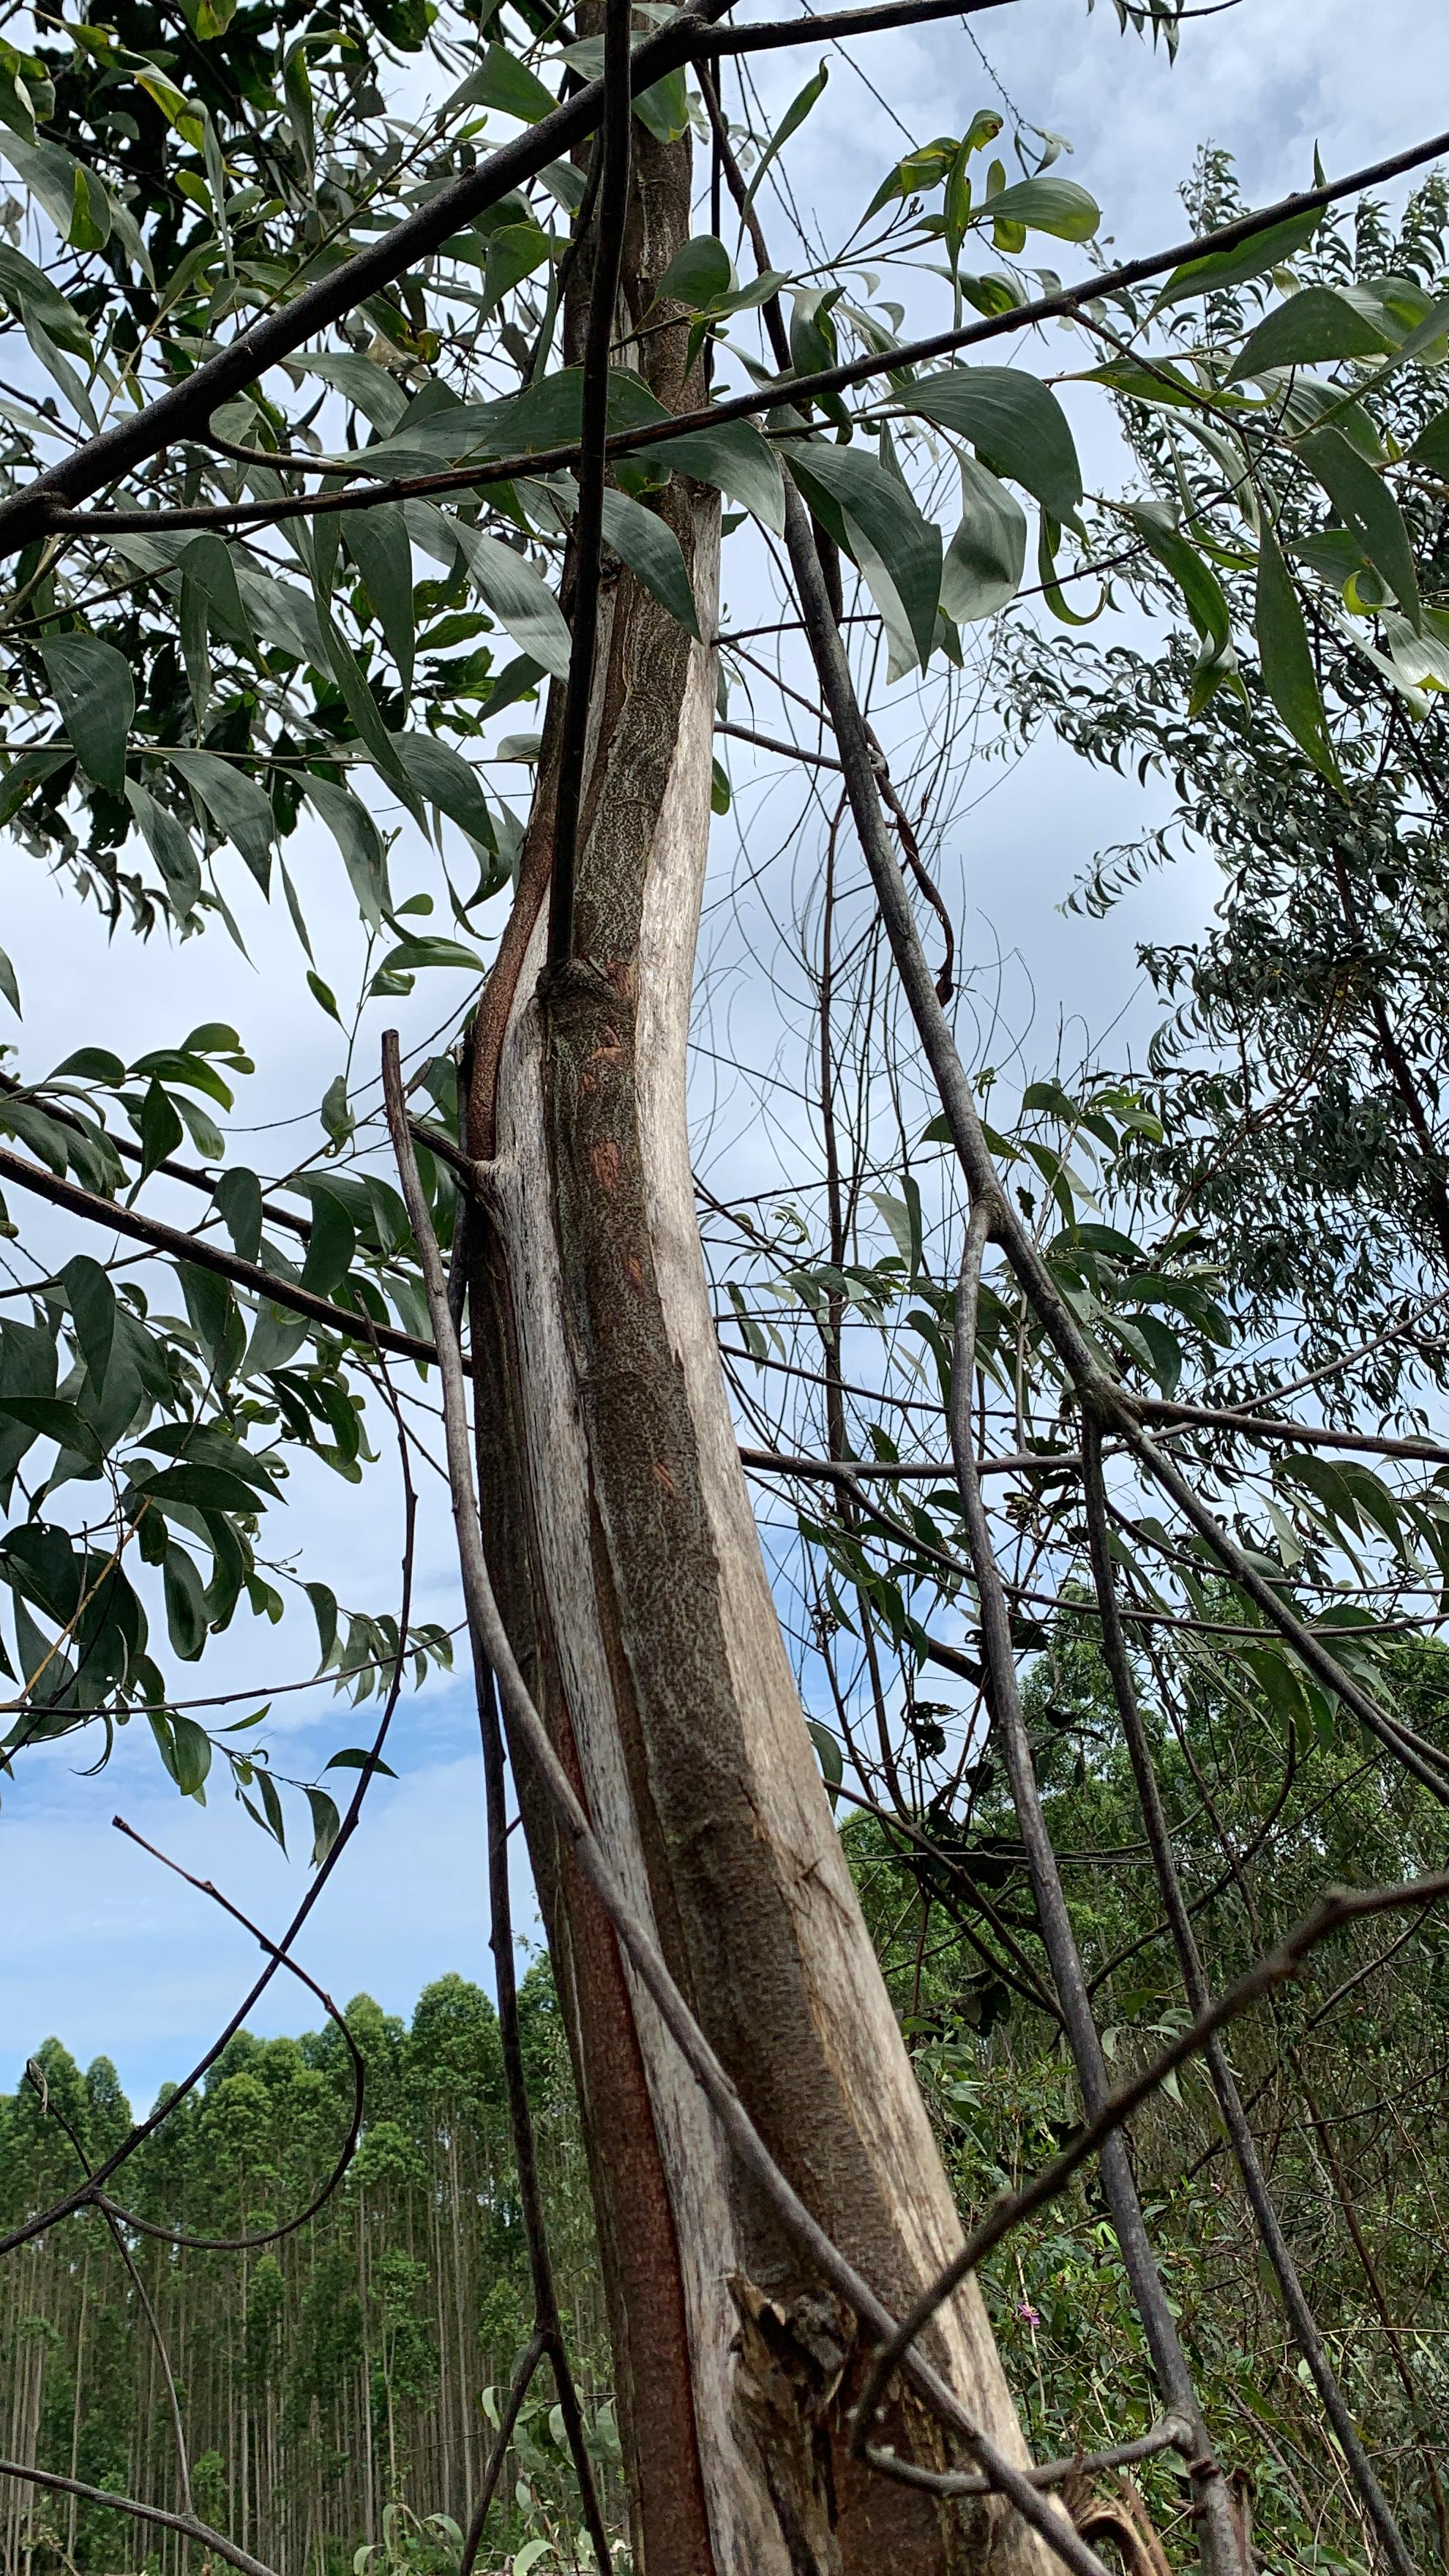Mammals Attack: (458, 0, 1083, 2576)
